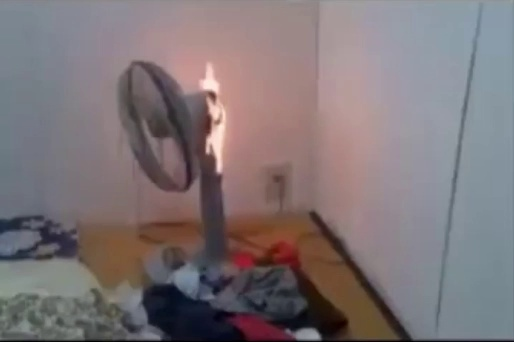fire: (196, 65, 232, 173)
